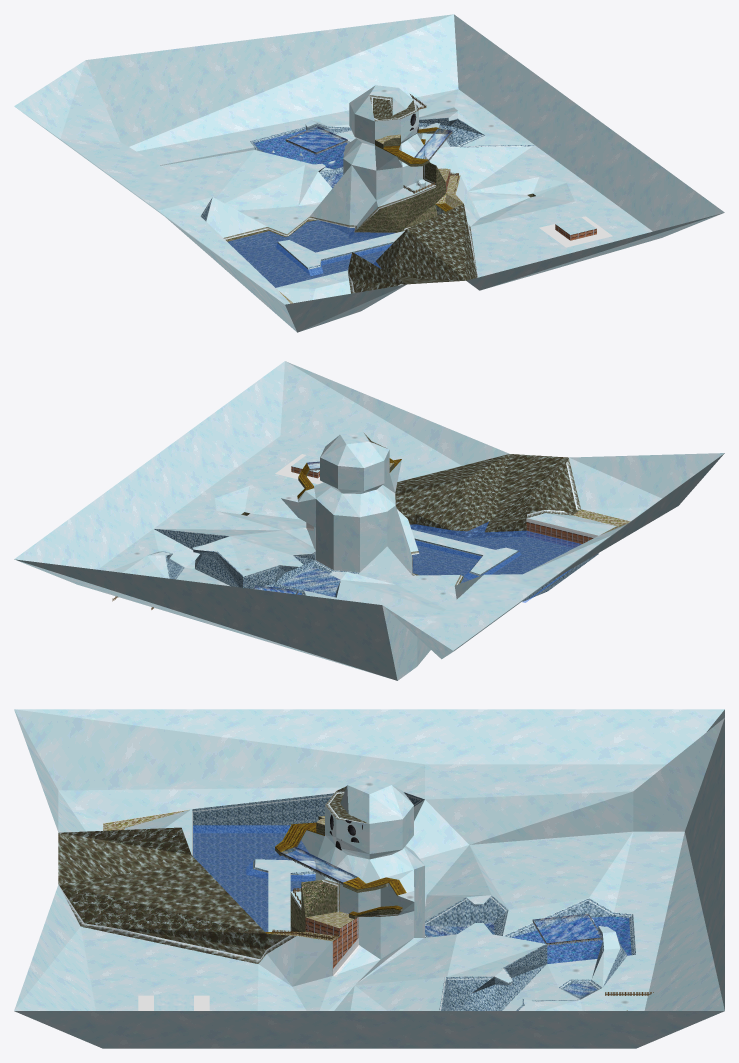
Rendered from snow_land_all.obj.
3 renders of one model, top to bottom at view 1: azimuth 30°, elevation 25°; view 2: azimuth 150°, elevation 25°; view 3: azimuth 270°, elevation 25°, orthographic. The views are drawn at different scales.
Parts seen in each view (by area): view 1: r0; view 2: r0; view 3: r0.
Boxes of the visible parts, x1,y1,x2,y2 form: r0: (14,14,724,332); r0: (14,361,724,680); r0: (14,709,724,1048).
Size of the model in its own units: 15 by 4.52 by 16.
